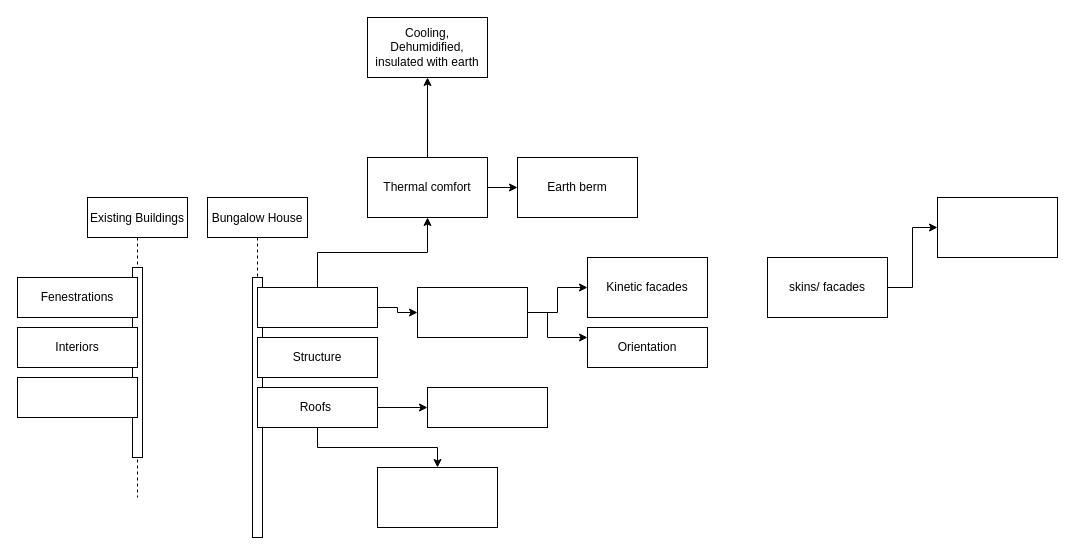
Some shapes in this 1075 by 555 pixel diagram are drawn without their labels. The shapes that lost their labels are listed below. From the top down, each one's box as (x1, y1, x2, y2) in pixels, then its label:
(936, 196, 1058, 258): Surface area increased to dissipate heat
(256, 286, 378, 328): Building envelope and facade
(416, 286, 528, 338): Ventilation
(426, 386, 548, 428): Renewable energy
(376, 466, 498, 528): Green roofs/ Biophilia
